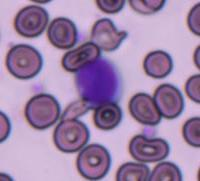L: (75, 54, 123, 108)
